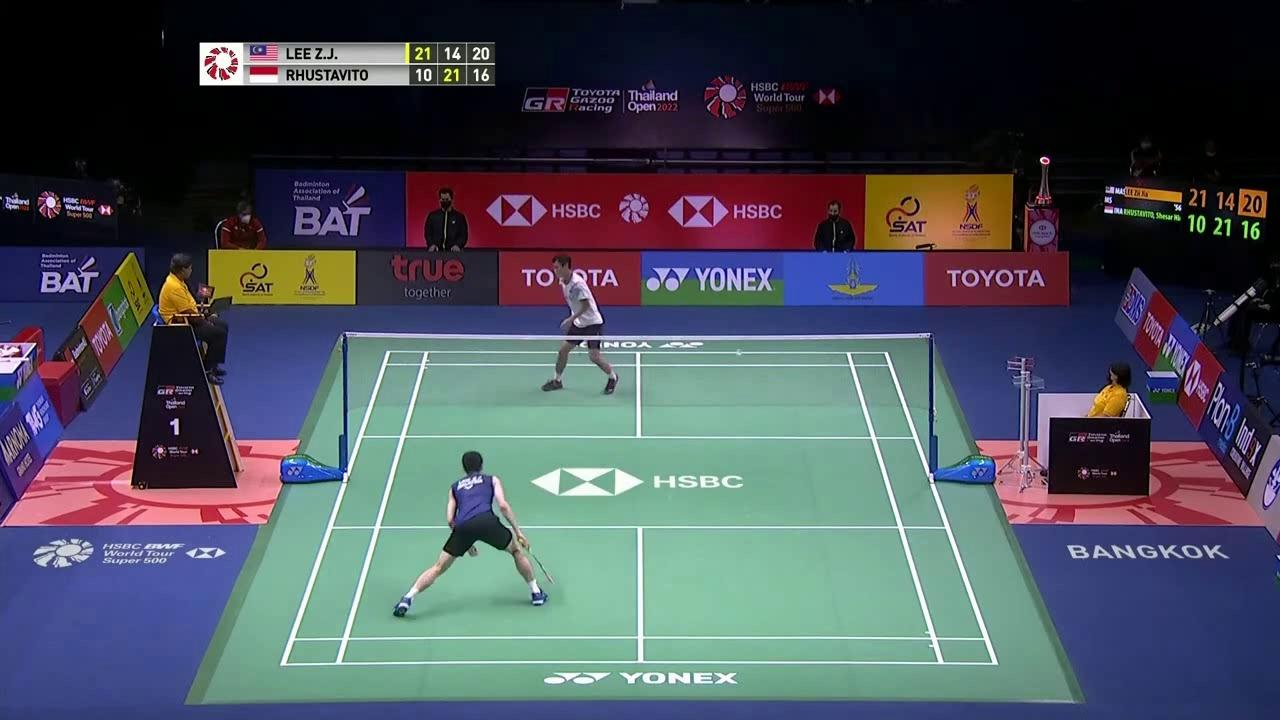racket: (522, 544, 561, 587)
shuttle: (734, 346, 745, 360)
